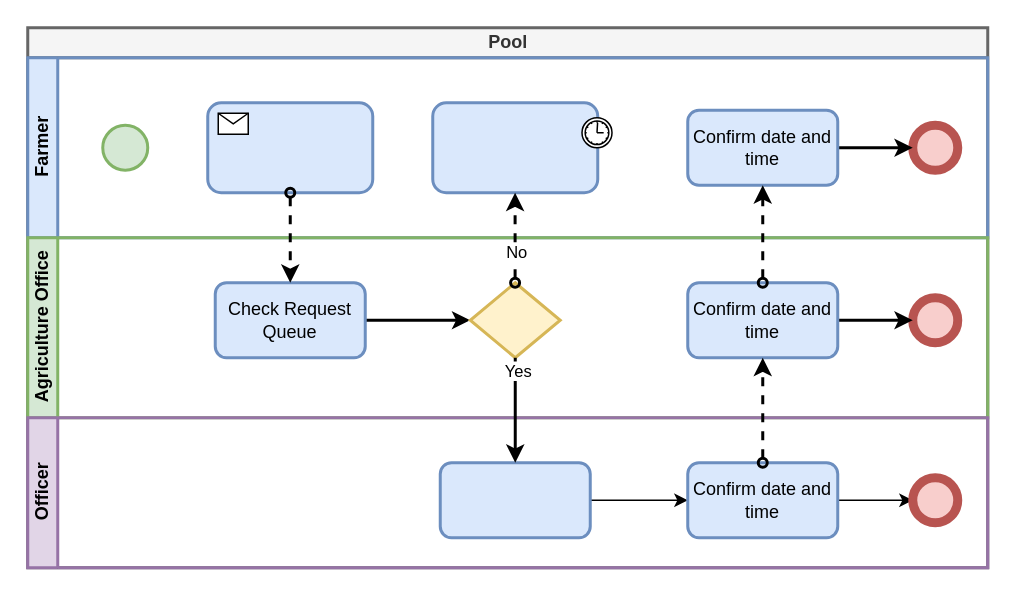
This 1014x594 diagram has some shape labels left out. Here are the shapes that lost their labels. From the top down, the centre of each, then its label:
At (x=290, y=147): "Request a Queue".
At (x=514, y=147): "Request to wait".
At (x=514, y=319): "Check Availability".
At (x=514, y=499): "Send request to officer".
